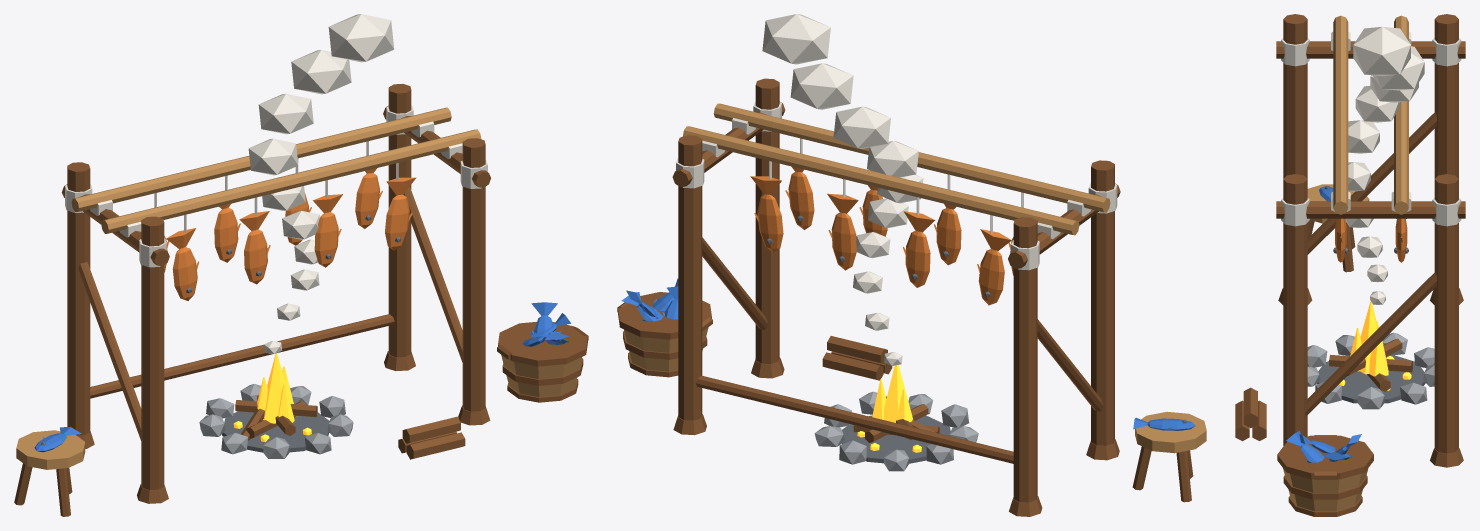
Rendered from fish-smoking-rack.glb.
3 views of the same model, side by side, from view 1: azimuth 30°, elevation 25°; view 2: azimuth 150°, elevation 25°; view 3: azimuth 270°, elevation 25° (orthographic). The views are drawn at different scales.
Parts seen in each view (by area): view 1: Smoke, Post_RF, Post_LF, Post_LB, Crossbar_1, Crossbar_2, Post_RB, PitStones, BasketBands, Brace_Back, Brace_L, Woodpile (+16 smaller); view 2: Smoke, Post_LB, Post_RB, Post_LF, Crossbar_2, Crossbar_1, Post_RF, Brace_Back, PitStones, BasketBands, Woodpile, StoolSeat (+16 smaller); view 3: Smoke, Post_RB, Post_RF, BasketBands, Post_LF, Post_LB, Crossbar_1, PitStones, Brace_R, SideBeam_R, Basket, Crossbar_2 (+16 smaller).
Part boxes in pixels (<box>): Smoke: <box>248,14,394,354</box>; Post_RF: <box>462,138,485,411</box>; Post_LF: <box>141,216,164,489</box>; Post_LB: <box>67,162,90,435</box>; Crossbar_1: <box>101,129,481,233</box>; Crossbar_2: <box>71,107,451,211</box>; Post_RB: <box>388,84,411,357</box>; PitStones: <box>199,384,353,458</box>; BasketBands: <box>497,321,588,402</box>; Brace_Back: <box>90,314,394,398</box>; Brace_L: <box>78,262,141,440</box>; Woodpile: <box>398,416,465,459</box>; Smoke: <box>762,14,923,365</box>; Post_LB: <box>1013,217,1037,502</box>; Post_RB: <box>678,135,702,420</box>; Post_LF: <box>1091,160,1114,445</box>; Crossbar_2: <box>683,126,1079,235</box>; Crossbar_1: <box>713,103,1110,212</box>; Post_RF: <box>755,78,779,363</box>; Brace_Back: <box>695,375,1013,463</box>; PitStones: <box>814,391,978,471</box>; BasketBands: <box>617,292,712,377</box>; Woodpile: <box>822,336,892,380</box>; StoolSeat: <box>1135,411,1206,453</box>; Smoke: <box>1345,26,1424,304</box>; Post_RB: <box>1434,174,1458,453</box>; Post_RF: <box>1283,174,1307,445</box>; BasketBands: <box>1277,435,1373,516</box>; Post_LF: <box>1283,14,1307,178</box>; Post_LB: <box>1434,14,1458,178</box>; Crossbar_1: <box>1333,15,1348,214</box>; PitStones: <box>1307,332,1434,409</box>; Brace_R: <box>1305,272,1437,416</box>; SideBeam_R: <box>1276,201,1465,218</box>; Basket: <box>1283,468,1368,511</box>; Crossbar_2: <box>1394,15,1408,214</box>.
Bounding box in the file's own units: 17.36 × 11.62 × 6.09.
